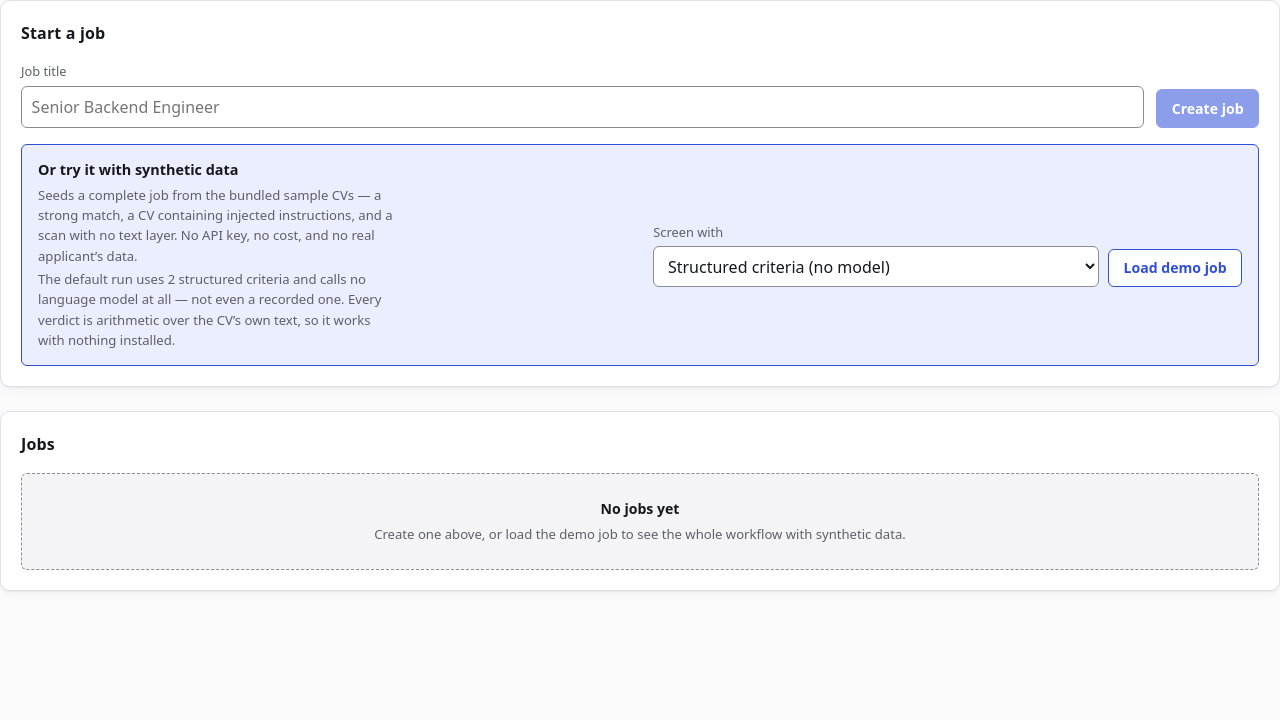
Scenario: the demo, now that the default path uses no model › says what a free-text brief costs instead, once one is chosen
Select "Free text — Formal job description (English)" in the dropdown labelled "Screen with": (876, 267) x1=653 y1=246 x2=1098 y2=287
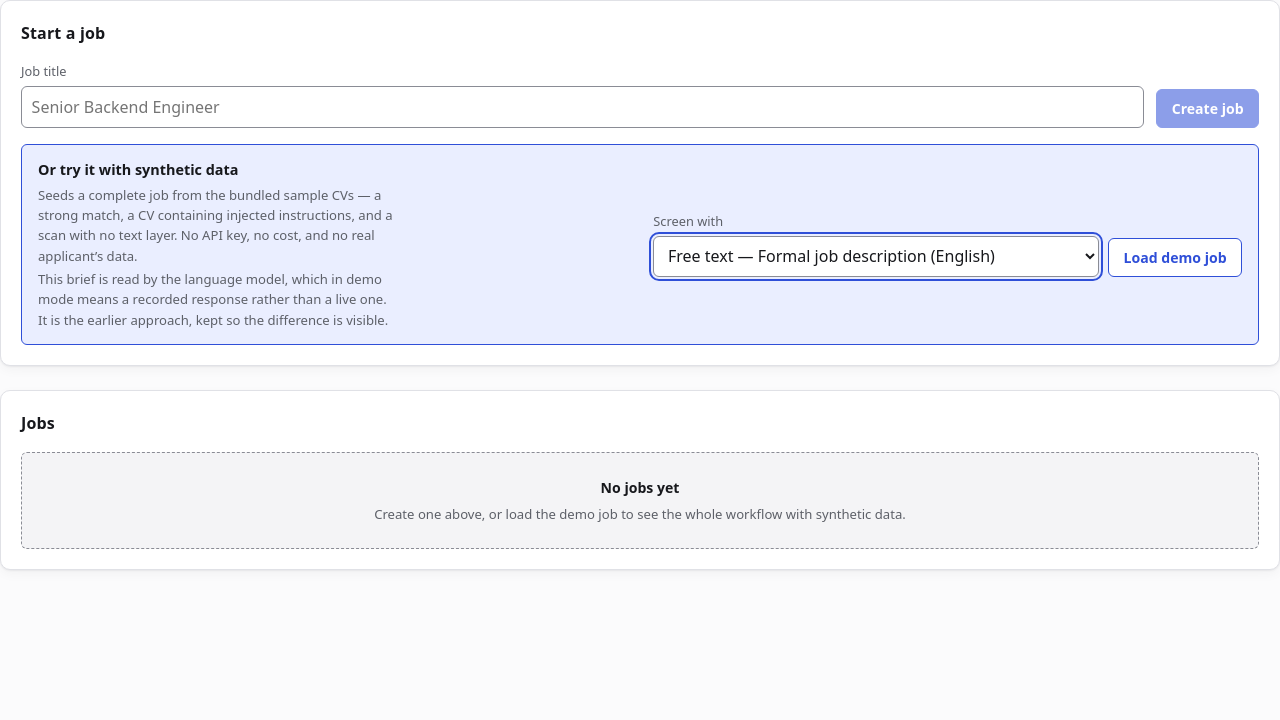
expect the text "it is the earlier approach" is shown: met, box x1=38 y1=270 x2=388 y2=329
